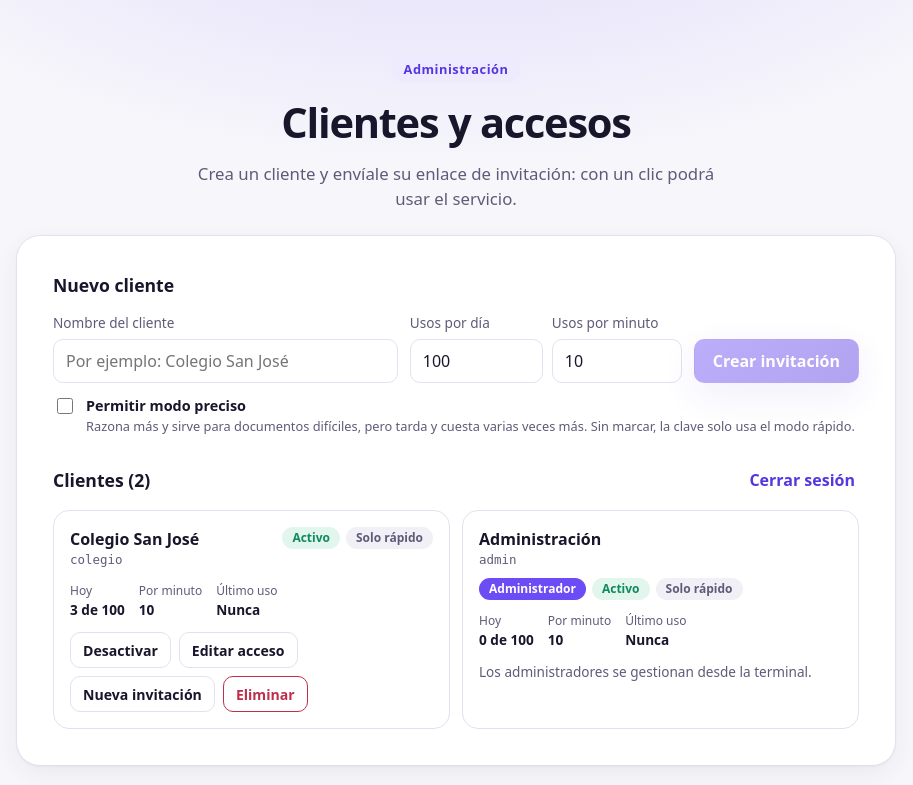
Scenario: AdminApp › deactivates a client and keeps administrators out of the panel's actions
Click the button "Desactivar" at (120, 650), box [70,632,171,668]
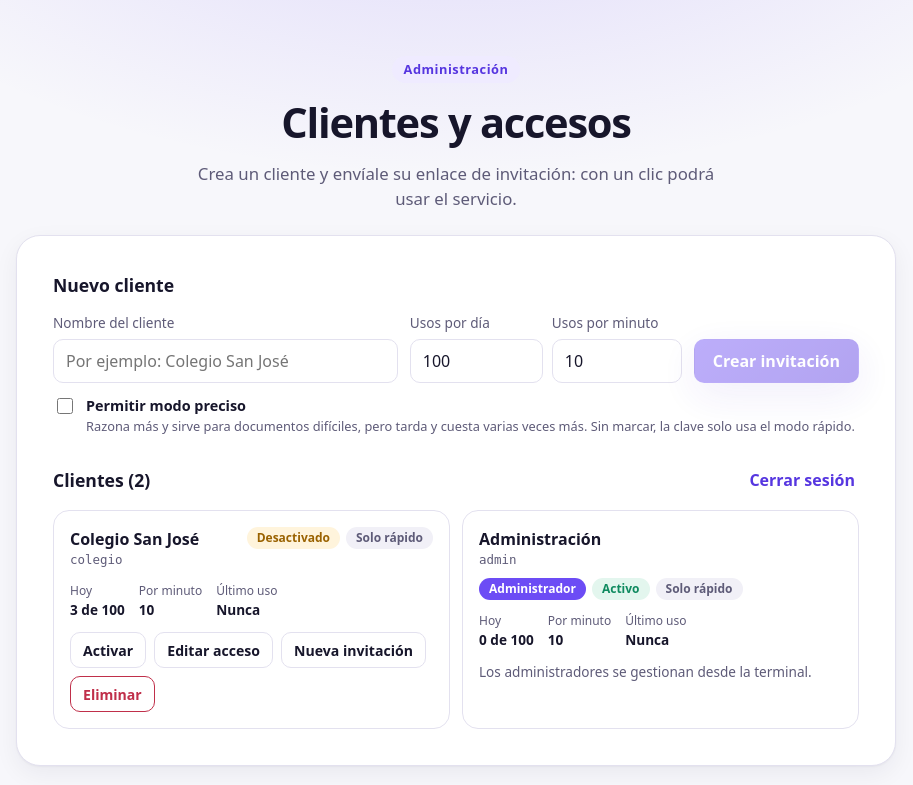
Expected: the button "Activar" is shown, [70,632,146,668]
Result: the text "Desactivado" is shown at [247,527,340,549]
